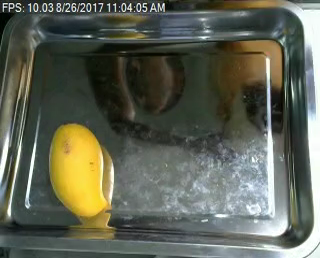Mango: (47, 122, 116, 219)
